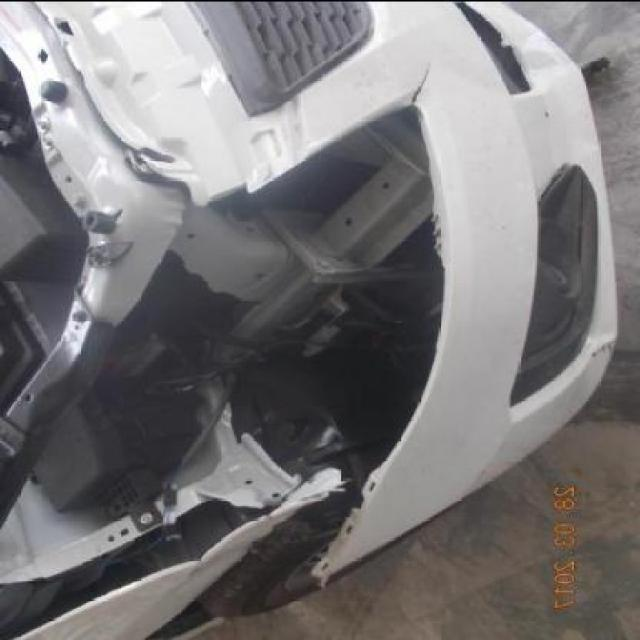damage: (3, 64, 456, 587), (145, 475, 381, 636)
